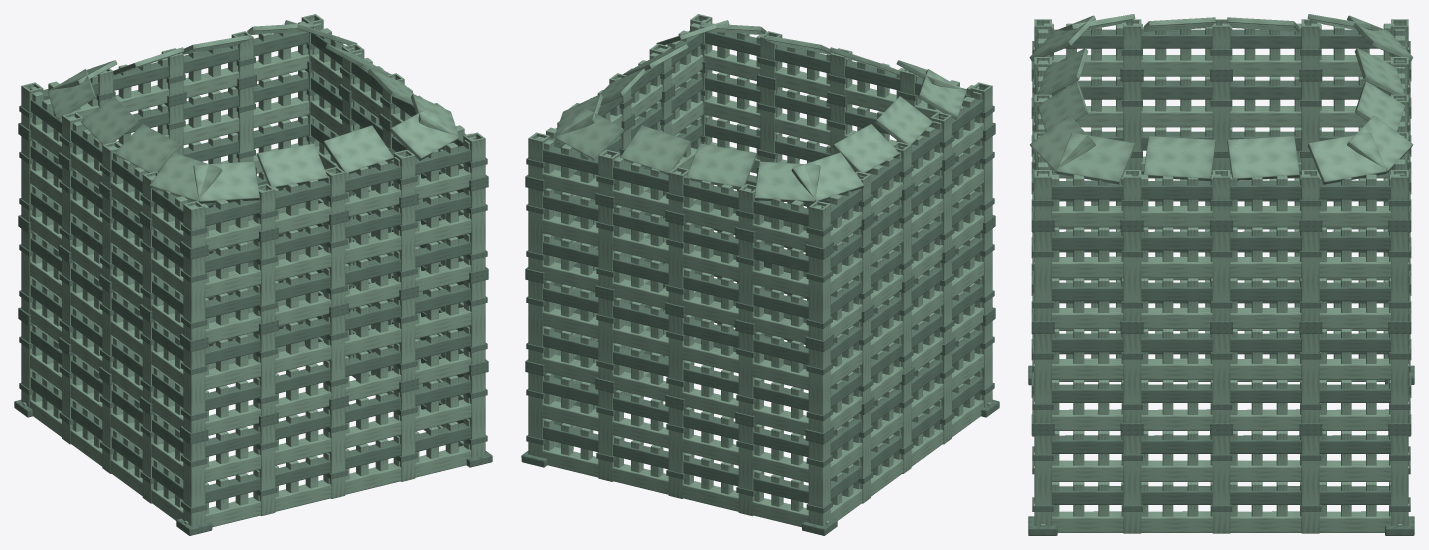
The picture shows the model from 3 angles, left to right: view 1: azimuth 30°, elevation 25°; view 2: azimuth 150°, elevation 25°; view 3: azimuth 270°, elevation 25°; orthographic projection. The views are drawn at different scales.
Parts seen in each view (by area): view 1: Crown alloy petal 0-1, Crown alloy petal 0-0, Crown alloy petal 0-2, Crown alloy petal 3-3, Crown alloy petal 3-2, Crown alloy petal 0-3, Tier 0 side 0 post 0, Tier 2 side 0 post 0, Tier 1 side 0 post 0, Crown alloy petal 3-1, Tier 0 side 0 post 1, Crown alloy petal 3-0 (+120 smaller); view 2: Crown alloy petal 2-2, Crown alloy petal 2-3, Crown alloy petal 2-1, Crown alloy petal 3-0, Crown alloy petal 3-1, Crown alloy petal 2-0, Tier 0 side 3 post 0, Tier 2 side 3 post 0, Tier 1 side 3 post 0, Crown alloy petal 3-2, Crown alloy petal 3-3, Tier 0 side 2 post 3 (+129 smaller); view 3: Crown alloy petal 1-2, Crown alloy petal 1-1, Crown alloy petal 1-3, Crown alloy petal 1-0, Crown alloy petal 0-3, Crown alloy petal 2-0, Tier 0 side 1 post 1, Tier 0 side 1 post 3, Tier 0 side 1 post 2, Tier 1 side 1 post 1, Tier 1 side 1 post 3, Tier 2 side 1 post 1 (+102 smaller).
Boxes of the visible parts, x1,y1,x2,y2 form: Crown alloy petal 0-1: [257, 143, 327, 188]; Crown alloy petal 0-0: [193, 161, 259, 203]; Crown alloy petal 0-2: [322, 125, 393, 173]; Crown alloy petal 3-3: [149, 152, 222, 201]; Crown alloy petal 3-2: [114, 124, 181, 173]; Crown alloy petal 0-3: [389, 108, 458, 160]; Tier 0 side 0 post 0: [183, 439, 205, 526]; Tier 2 side 0 post 0: [183, 255, 205, 340]; Tier 1 side 0 post 0: [183, 347, 205, 432]; Crown alloy petal 3-1: [81, 96, 138, 144]; Tier 0 side 0 post 1: [253, 424, 275, 515]; Crown alloy petal 3-0: [47, 69, 95, 119]; Crown alloy petal 2-2: [686, 143, 756, 188]; Crown alloy petal 2-3: [754, 161, 820, 203]; Crown alloy petal 2-1: [620, 125, 691, 175]; Crown alloy petal 3-0: [791, 152, 864, 201]; Crown alloy petal 3-1: [832, 124, 899, 172]; Crown alloy petal 2-0: [555, 108, 624, 160]; Tier 0 side 3 post 0: [808, 439, 830, 525]; Tier 2 side 3 post 0: [808, 255, 830, 340]; Tier 1 side 3 post 0: [808, 347, 830, 432]; Crown alloy petal 3-2: [875, 96, 932, 144]; Crown alloy petal 3-3: [918, 69, 966, 119]; Tier 0 side 2 post 3: [738, 424, 755, 516]; Crown alloy petal 1-2: [1227, 136, 1299, 180]; Crown alloy petal 1-1: [1143, 136, 1215, 180]; Crown alloy petal 1-3: [1307, 132, 1386, 184]; Crown alloy petal 1-0: [1056, 132, 1135, 184]; Crown alloy petal 0-3: [1030, 115, 1095, 173]; Crown alloy petal 2-0: [1347, 115, 1413, 173]; Tier 0 side 1 post 1: [1123, 435, 1141, 533]; Tier 0 side 1 post 3: [1301, 435, 1319, 533]; Tier 0 side 1 post 2: [1212, 435, 1230, 533]; Tier 1 side 1 post 1: [1123, 334, 1141, 423]; Tier 1 side 1 post 3: [1301, 334, 1319, 423]; Tier 2 side 1 post 1: [1123, 232, 1141, 321].
Bounding box in the file's own units: 1.95 × 2.09 × 1.95.
2 materials, 2 textured.
